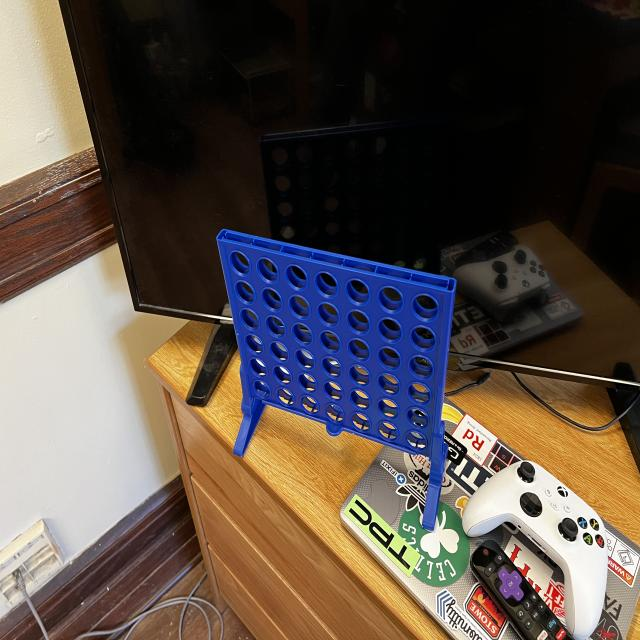Board: (217, 226, 452, 467)
No Piece: (406, 351, 435, 382), (412, 291, 439, 324), (283, 261, 309, 295), (409, 320, 436, 352), (376, 315, 405, 344), (343, 277, 371, 307), (376, 285, 404, 314), (284, 293, 312, 321), (314, 300, 341, 329), (405, 379, 432, 408), (256, 255, 280, 287), (314, 268, 338, 300), (375, 368, 401, 397), (228, 248, 252, 279), (292, 343, 318, 371), (317, 326, 343, 354), (377, 343, 403, 371), (346, 385, 373, 411), (290, 319, 314, 348), (319, 353, 344, 380), (346, 309, 371, 336), (322, 398, 346, 426), (348, 336, 372, 364), (375, 416, 399, 444), (376, 394, 402, 419), (234, 278, 257, 306), (267, 338, 291, 364), (270, 360, 294, 386), (348, 362, 372, 388), (406, 403, 429, 430), (322, 377, 346, 402), (262, 286, 284, 313), (242, 331, 265, 356), (238, 306, 260, 332), (264, 314, 286, 339), (295, 370, 317, 395), (298, 392, 320, 417), (350, 409, 372, 433), (404, 430, 428, 452), (248, 356, 268, 379), (276, 383, 294, 408), (254, 376, 270, 401)
